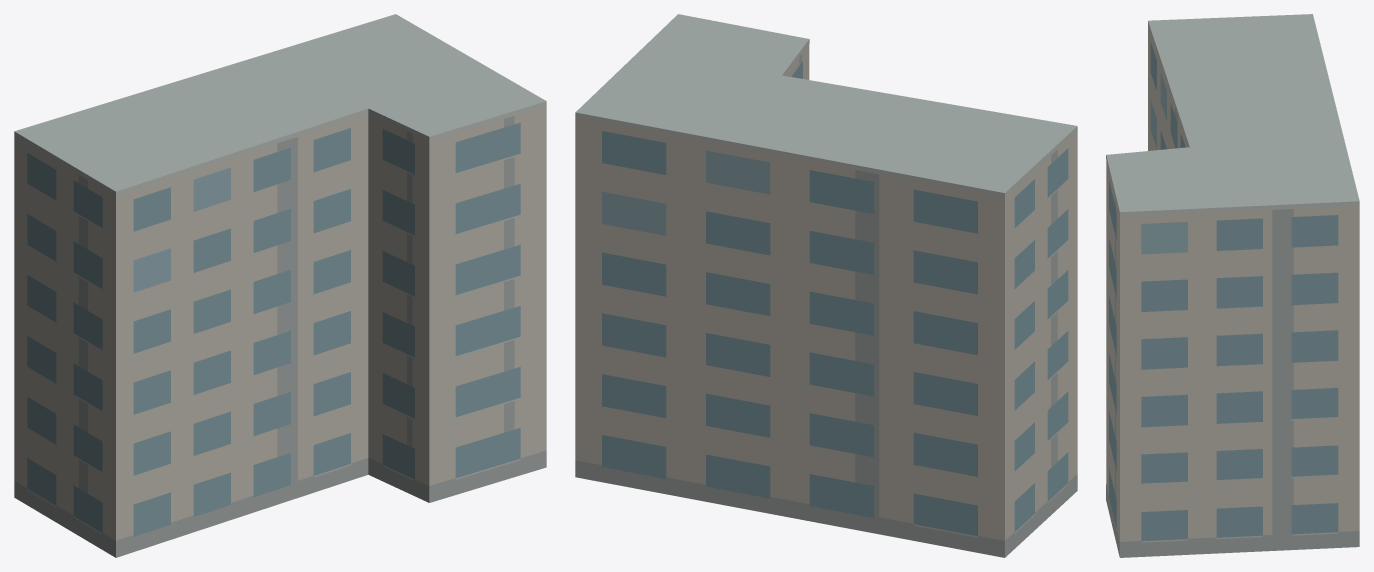
File: survey-upis-32494040.glb
The picture shows the model from 3 angles, left to right: view 1: azimuth 30°, elevation 25°; view 2: azimuth 150°, elevation 25°; view 3: azimuth 270°, elevation 25°; orthographic projection. The views are drawn at different scales.
Parts seen in each view (by area): view 1: survey-upis-32494040.tmp; view 2: survey-upis-32494040.tmp; view 3: survey-upis-32494040.tmp.
Boxes of the visible parts, left/top/right/bottom form: survey-upis-32494040.tmp: left=14, top=14, right=546, bottom=557; survey-upis-32494040.tmp: left=575, top=14, right=1077, bottom=557; survey-upis-32494040.tmp: left=1106, top=14, right=1359, bottom=557.
Bounding box in the file's own units: 22.51 × 18.3 × 12.17.
